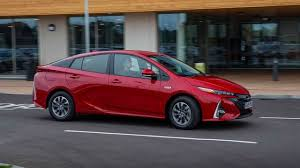Toyota: (38, 50, 244, 121)
